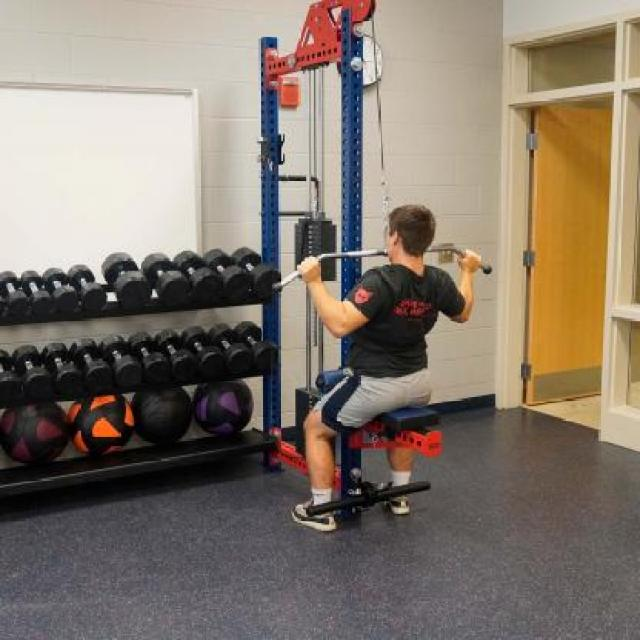Lat Pull Down: (231, 0, 486, 546)
